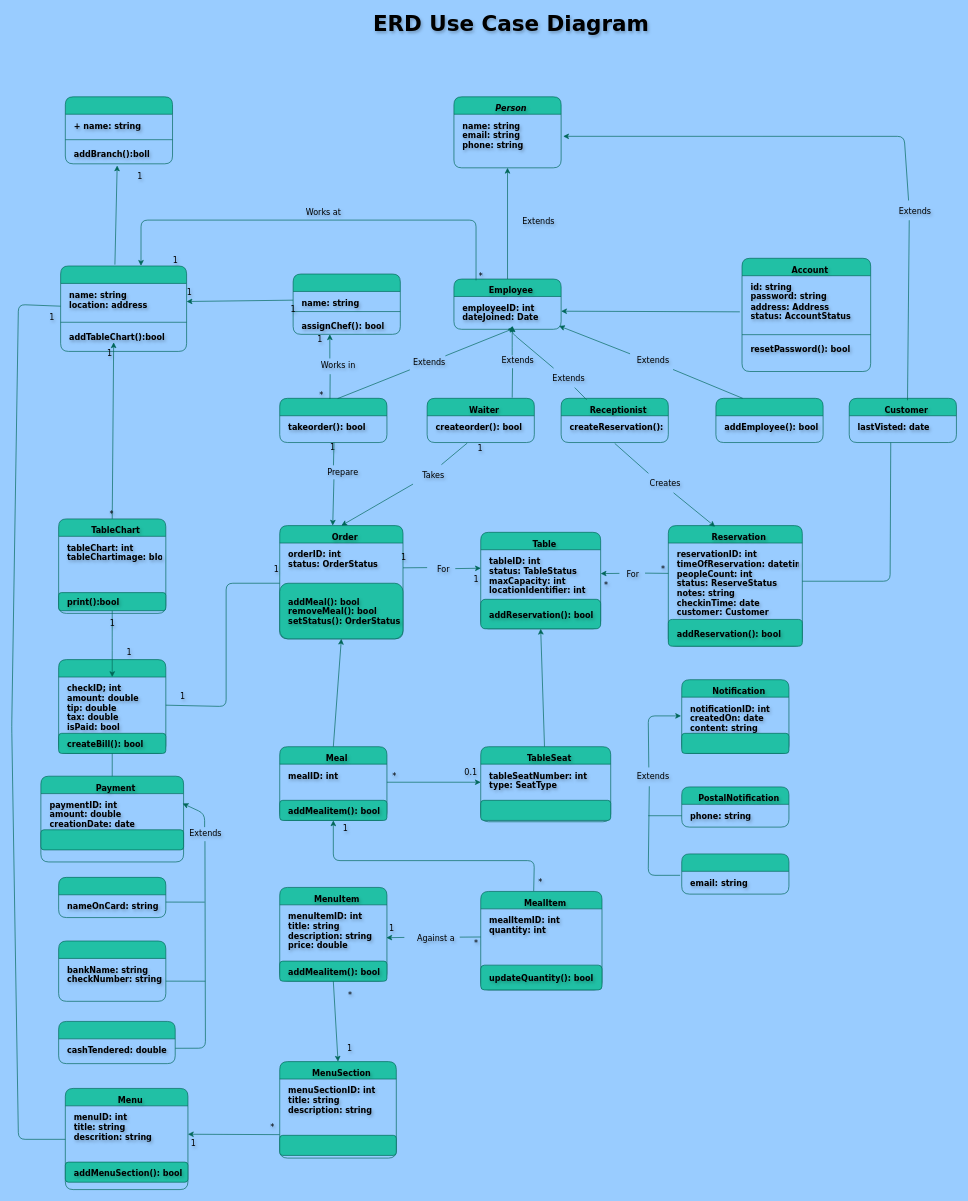
Image size: 968x1201. Some labels were removed from this diagram. Each missing label, with the box of its shape:
addMenuItem(): bool: (279, 1135, 396, 1155)
Branch: (60, 265, 187, 351)
CashTransacltion: (58, 1021, 175, 1064)
Check/Bill: (58, 659, 166, 753)
CheckTransaction: (58, 940, 166, 1001)
Chef: (279, 398, 387, 443)
CreditCardTransaction: (58, 877, 166, 918)
EmailNotification: (681, 853, 789, 894)
intiateTrancsaction(): bool: (40, 829, 184, 850)
Kitchen: (292, 273, 400, 334)
Manager: (715, 398, 823, 443)
Resturants: (65, 96, 173, 164)
send(): bool: (681, 733, 789, 753)
updateSeatType(): bool: (480, 800, 611, 820)
